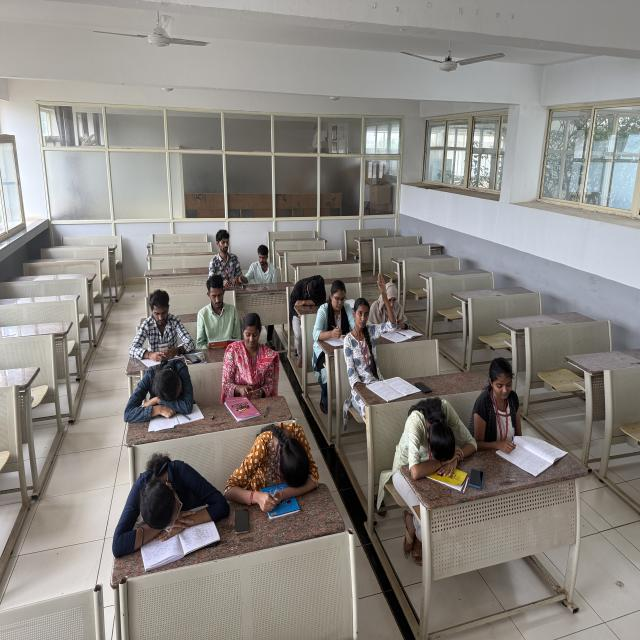Hand Rising: (348, 273, 394, 382)
Reading: (198, 272, 242, 347)
Sleeping: (103, 449, 232, 554), (222, 420, 324, 504), (388, 394, 479, 474), (123, 354, 196, 428), (288, 270, 331, 312)
Using Phone: (127, 285, 199, 358), (225, 315, 279, 398), (367, 278, 413, 332)
Writing: (471, 354, 539, 462), (314, 280, 356, 340)
